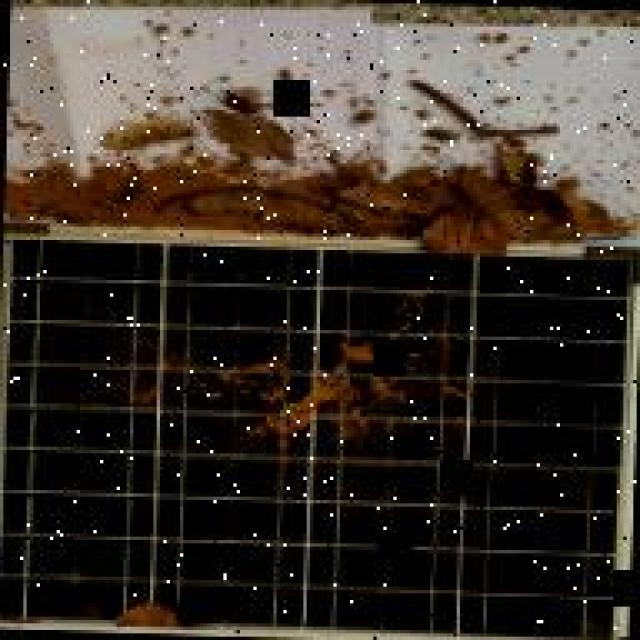dust-solar-panel: (4, 244, 626, 639)
